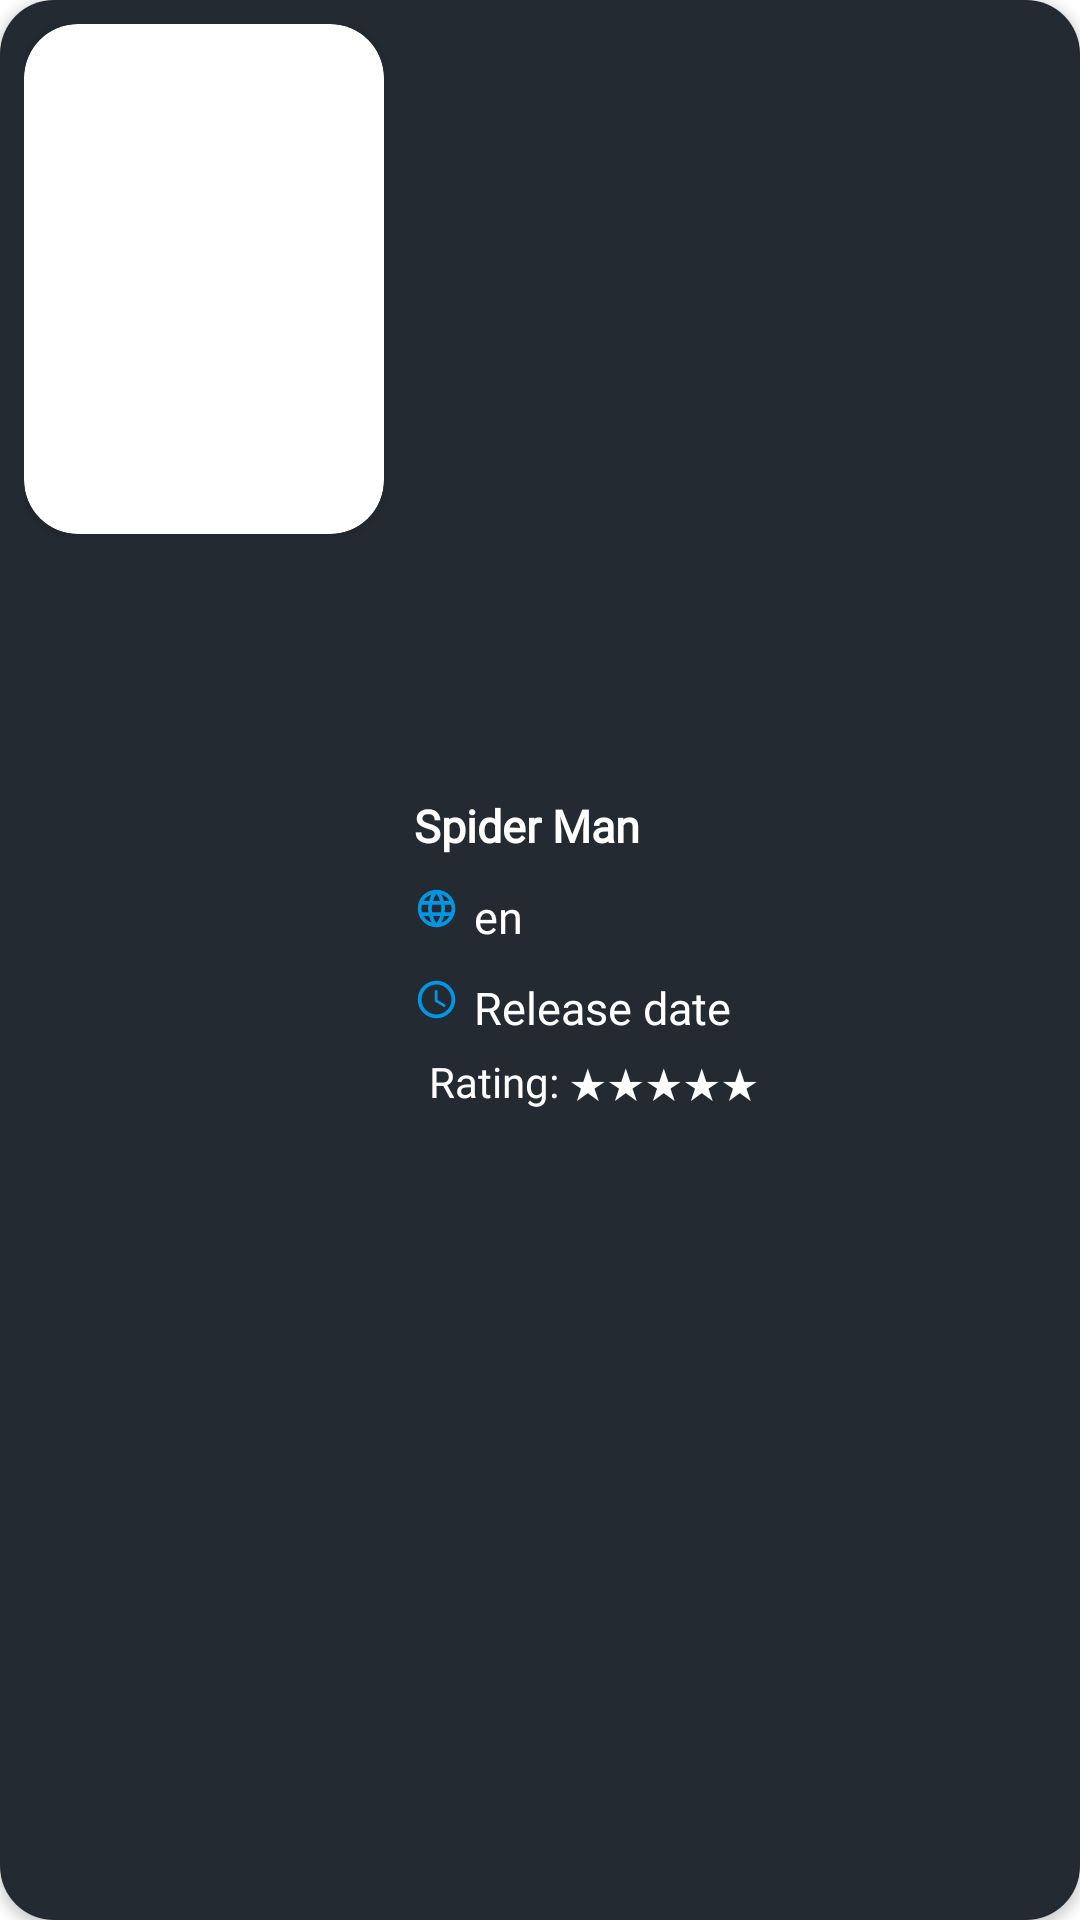

Icons on this 1080px x 1920px Android screen, each with the point to tap as [x,y]:
language: [436,908]
